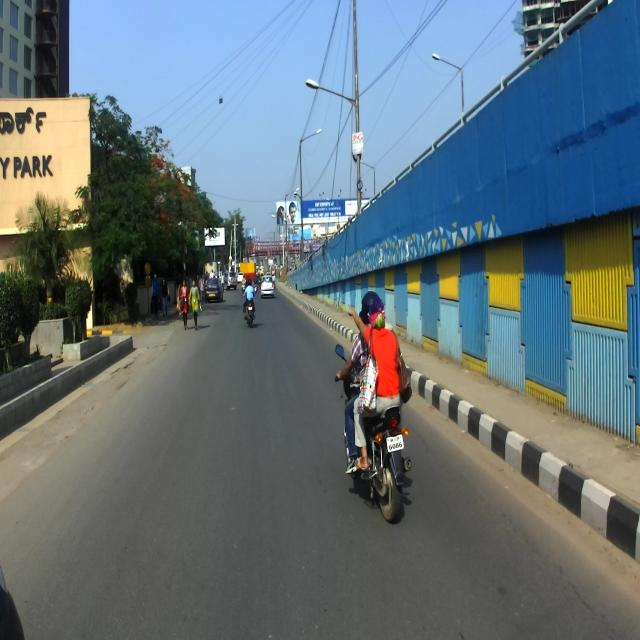motorcycle ahead at: (336, 407, 411, 524)
